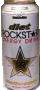grozi_48: (0, 0, 40, 89)
